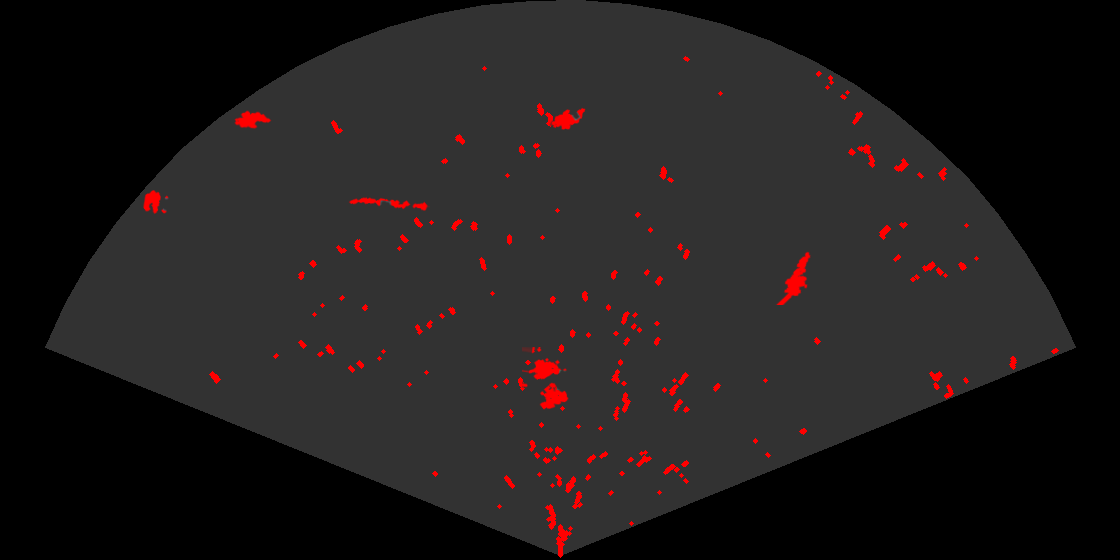AUV: (549, 106, 587, 131), (233, 109, 273, 131)
ball: (142, 189, 170, 216)
cage: (522, 347, 570, 411)
chain: (348, 195, 430, 212)
frogman: (774, 250, 812, 305)
